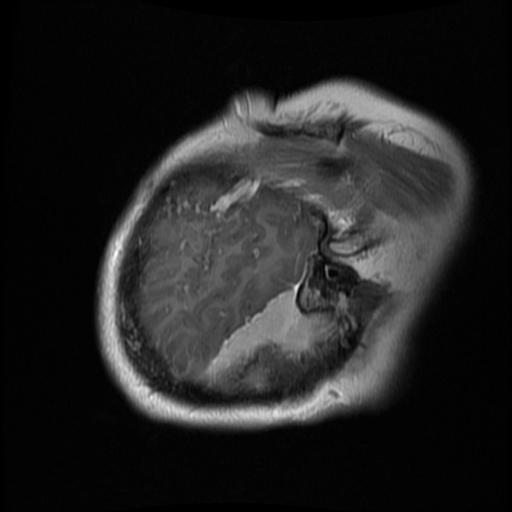meningioma: (202, 286, 338, 395)
